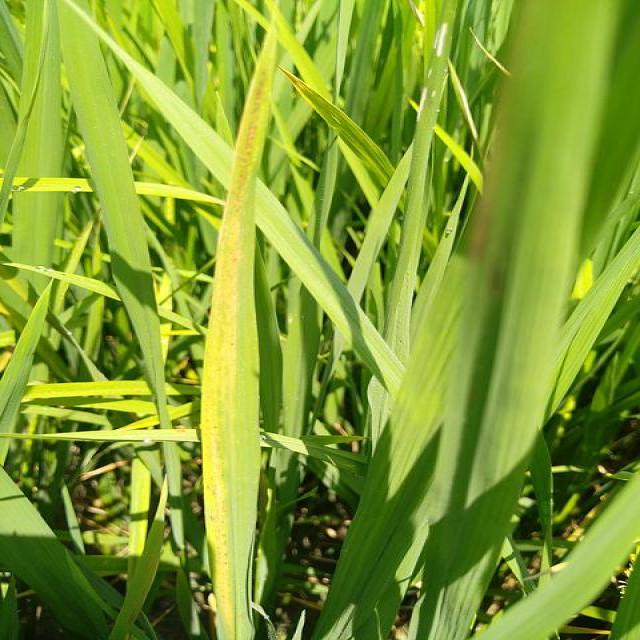Leaf Streak: (201, 33, 276, 586)
